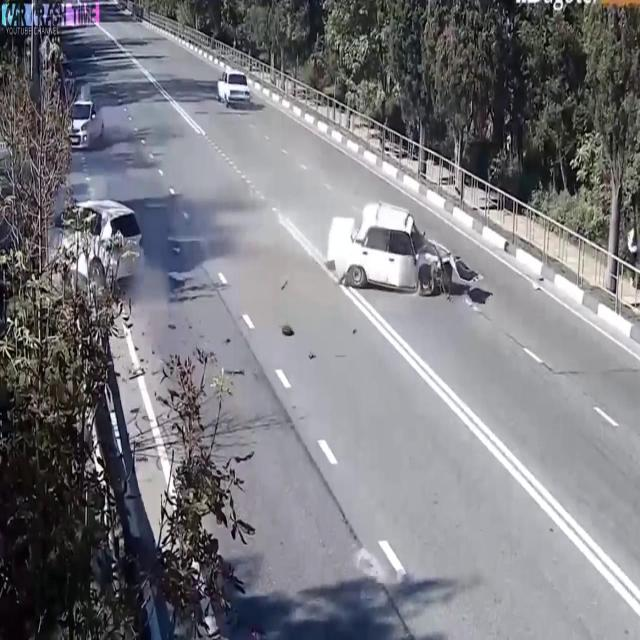accident: (325, 188, 488, 318), (0, 187, 155, 309)
